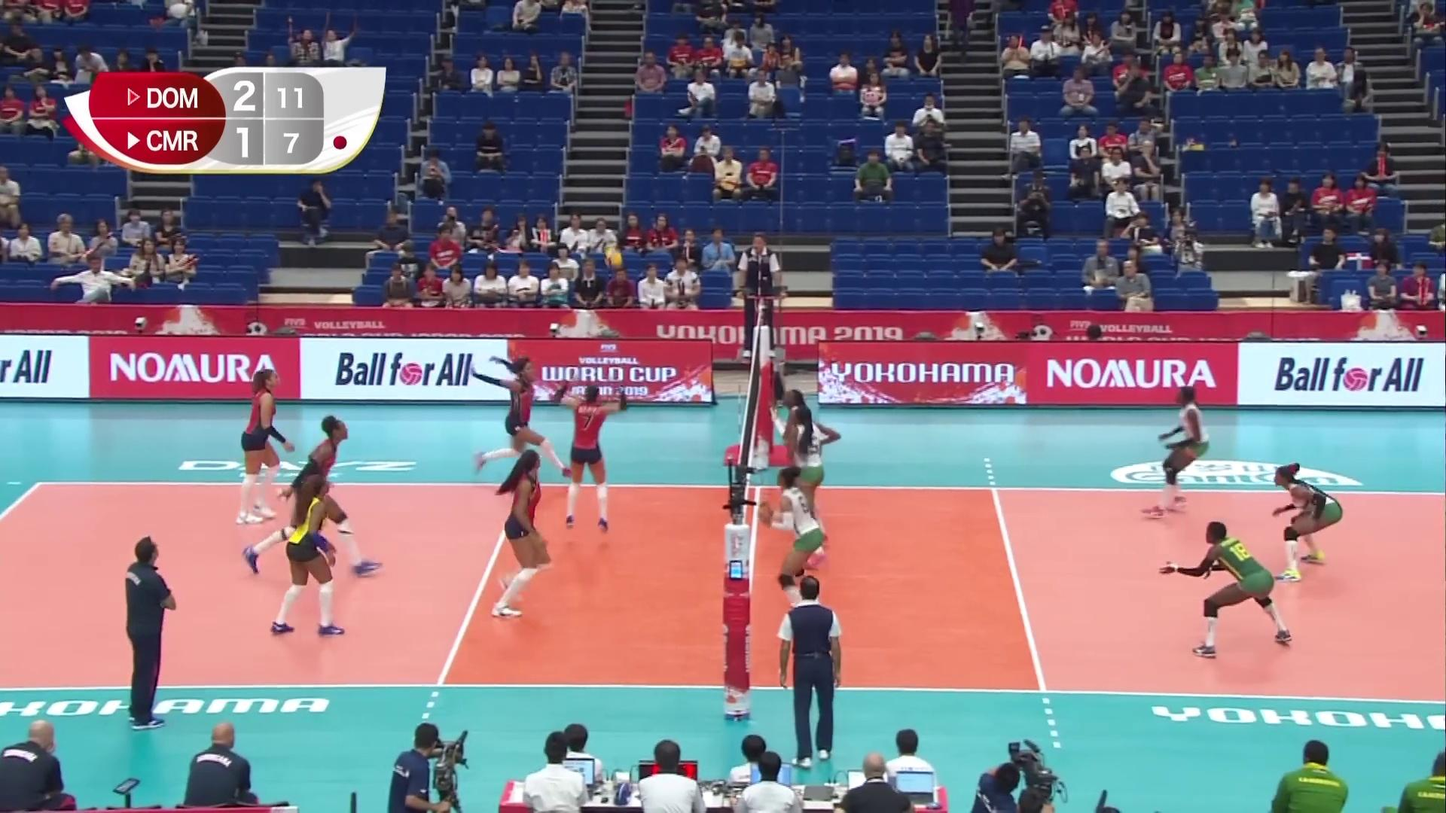player: (243, 416, 382, 579), (1160, 521, 1293, 657), (469, 352, 580, 479), (270, 474, 350, 637), (558, 374, 631, 530), (489, 451, 551, 620), (1270, 464, 1345, 584), (770, 464, 827, 618), (238, 366, 293, 525), (1144, 389, 1209, 522), (785, 409, 838, 566), (771, 382, 814, 519)
refree: (777, 574, 846, 763), (739, 231, 781, 361)
